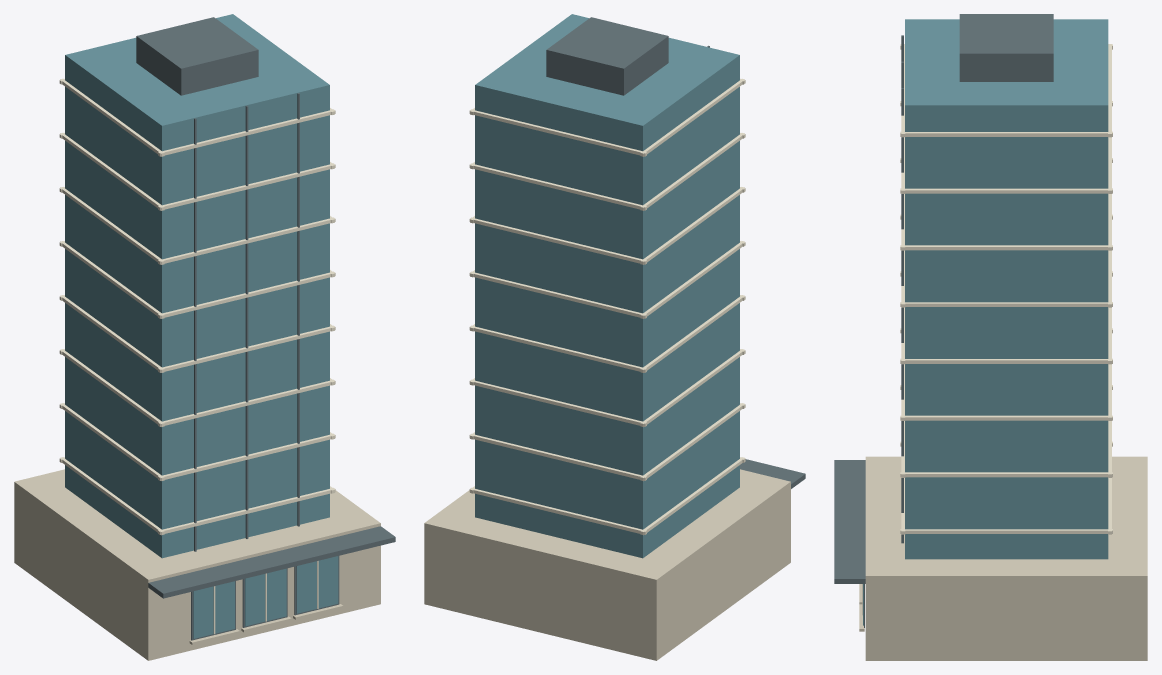
Rendered from podium-tower.glb.
The picture shows the model from 3 angles, left to right: view 1: azimuth 30°, elevation 25°; view 2: azimuth 150°, elevation 25°; view 3: azimuth 270°, elevation 25°; orthographic projection. The views are drawn at different scales.
Size of the model in its own units: 9 by 20 by 10.
